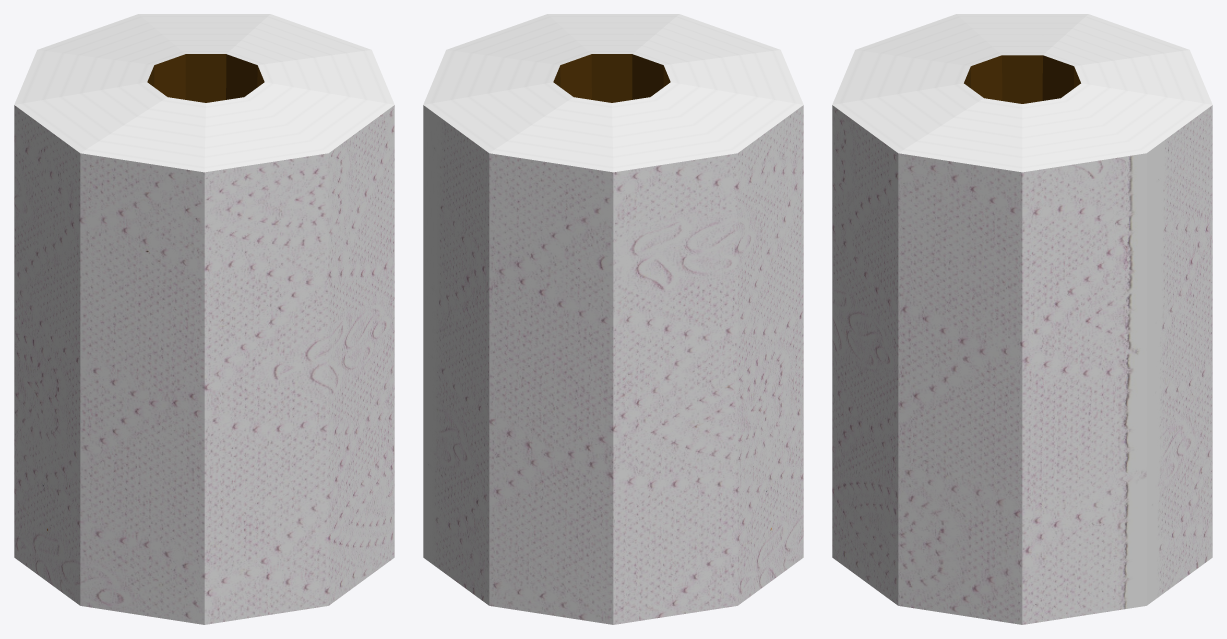
File: PaperTowel.fbx
The picture shows the model from 3 angles, left to right: view 1: azimuth 30°, elevation 25°; view 2: azimuth 150°, elevation 25°; view 3: azimuth 270°, elevation 25°; orthographic projection.
Visible parts, largest first — view 1: pTorus1; view 2: pTorus1; view 3: pTorus1.
Part boxes in pixels (x1=…): pTorus1: x1=14, y1=14, x2=394, y2=624; pTorus1: x1=423, y1=14, x2=803, y2=624; pTorus1: x1=832, y1=14, x2=1212, y2=624.
Size of the model in its own units: 16.91 by 23.78 by 17.17.
